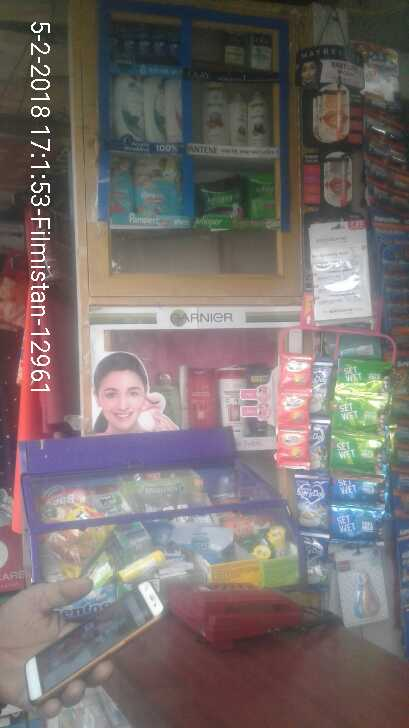vicks: (110, 34, 187, 71)
